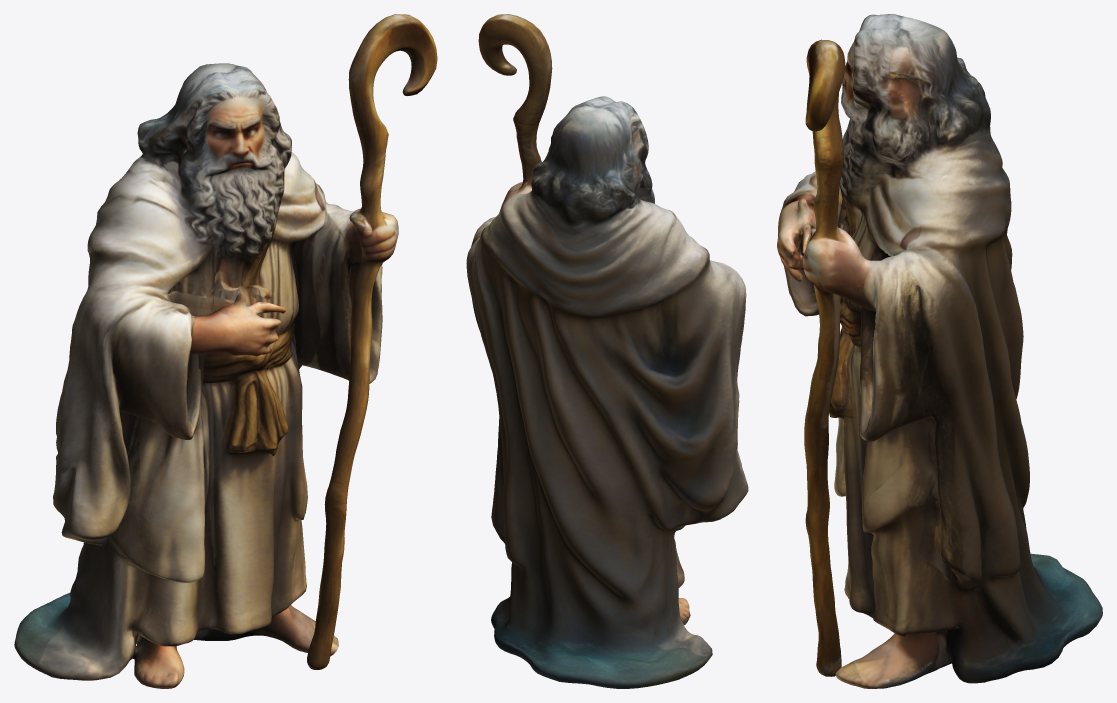
Rendered from Moises.glb.
3 renders of one model, left to right at view 1: azimuth 30°, elevation 25°; view 2: azimuth 150°, elevation 25°; view 3: azimuth 270°, elevation 25°, orthographic. The views are drawn at different scales.
Bounding box in the file's own units: 1.11 × 2 × 0.8791.
Materials: 1 (1 with a texture image).
